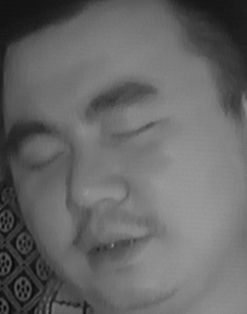blink: (108, 114, 159, 149), (24, 143, 68, 173)
mouth: (71, 216, 156, 279)
